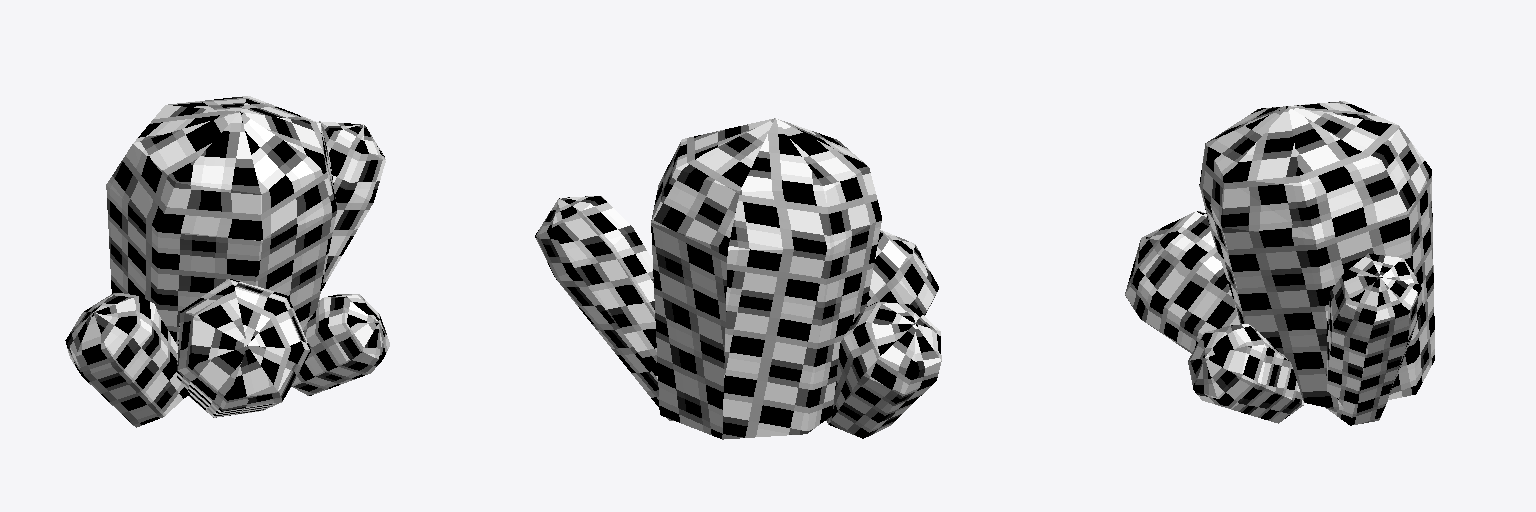
3 views of the same model, side by side, from view 1: azimuth 30°, elevation 25°; view 2: azimuth 150°, elevation 25°; view 3: azimuth 270°, elevation 25° (orthographic).
Parts seen in each view (by area): view 1: Captus_03; view 2: Captus_03; view 3: Captus_03.
Part boxes in pixels (x1,y1,x2,y2): Captus_03: (65, 96, 389, 427); Captus_03: (535, 118, 941, 439); Captus_03: (1125, 101, 1434, 425).
Bounding box in the file's own units: 16.89 × 13.11 × 12.84.
1 materials, 1 textured.